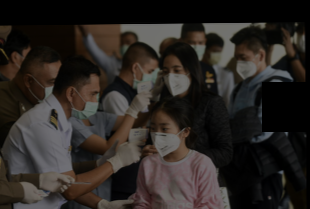with_mask: (151, 120, 182, 158), (161, 62, 192, 98), (33, 71, 60, 105), (76, 88, 101, 121), (236, 51, 258, 78), (136, 65, 158, 90), (185, 37, 207, 59), (206, 48, 222, 66)
